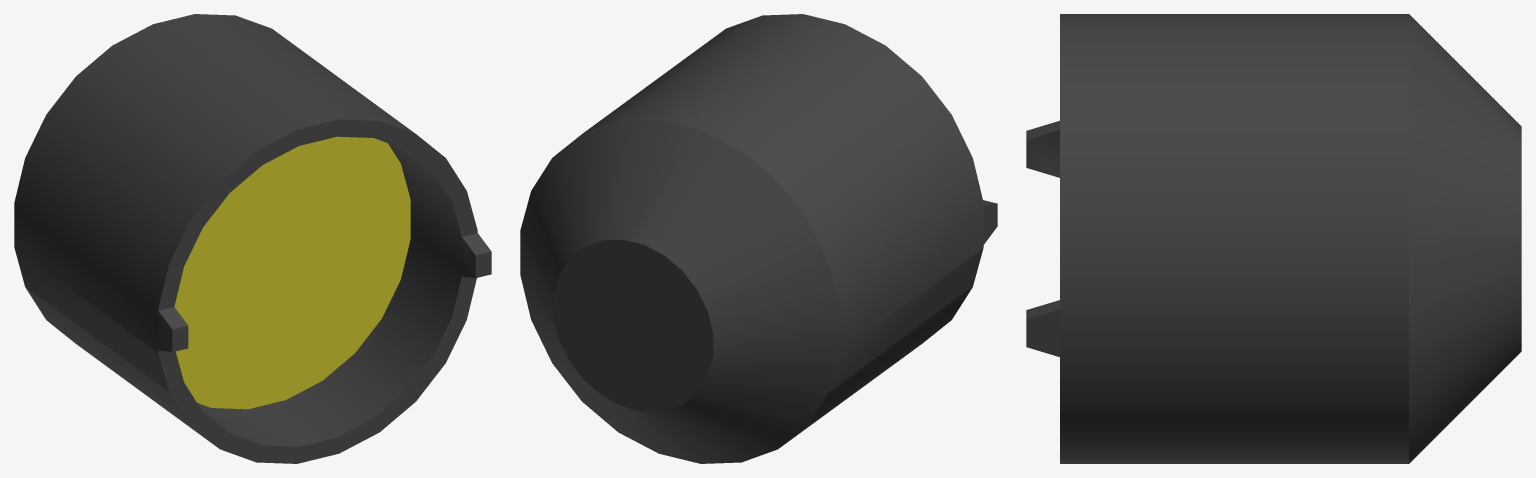
Rendered from steel_ladle_full.dae.
The picture shows the model from 3 angles, left to right: view 1: azimuth 30°, elevation 25°; view 2: azimuth 150°, elevation 25°; view 3: azimuth 270°, elevation 25°; orthographic projection. The views are drawn at different scales.
Visible parts, largest first — view 1: coords_ME_ID3_MA___auto_, coords_ME_ID11_MA___auto_31; view 2: coords_ME_ID3_MA___auto_; view 3: coords_ME_ID3_MA___auto_.
Boxes of the visible parts, bbox=[...] form: coords_ME_ID3_MA___auto_: bbox=[14, 14, 491, 463]; coords_ME_ID11_MA___auto_31: bbox=[174, 136, 410, 409]; coords_ME_ID3_MA___auto_: bbox=[520, 14, 997, 463]; coords_ME_ID3_MA___auto_: bbox=[1026, 14, 1521, 463].
Bounding box in the file's own units: 5.41 × 5.41 × 6.
